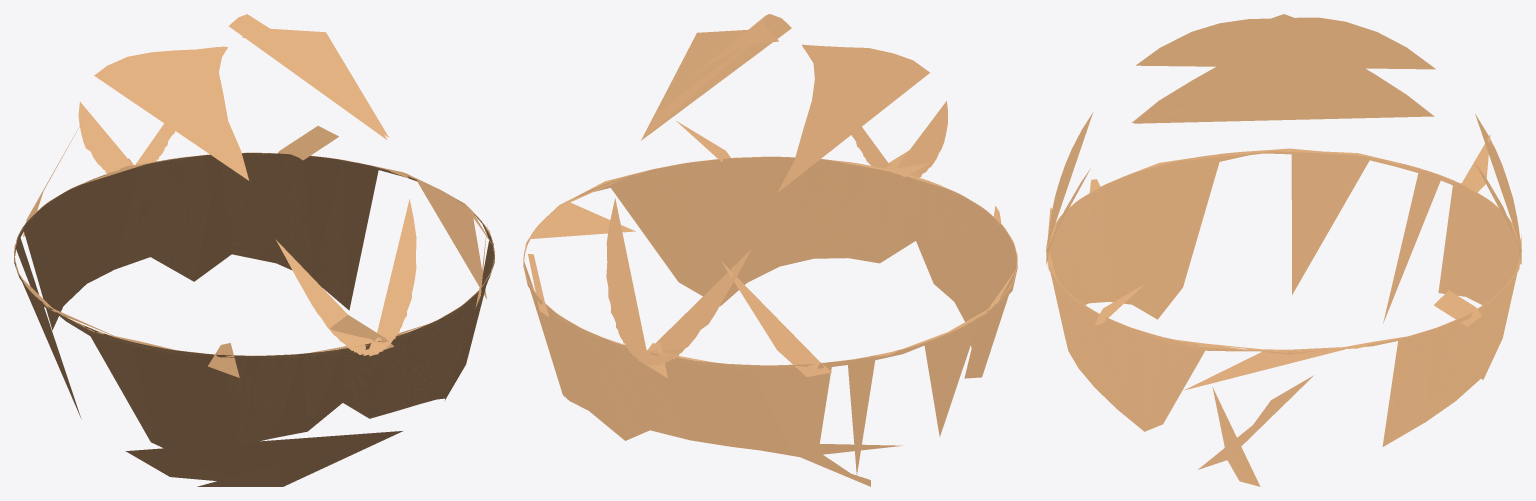
The model's file is conductors.glb.
3 views of the same model, side by side, from view 1: azimuth 30°, elevation 25°; view 2: azimuth 150°, elevation 25°; view 3: azimuth 270°, elevation 25° (orthographic). The views are drawn at different scales.
Parts seen in each view (by area): view 1: conductors; view 2: conductors; view 3: conductors.
Part boxes in pixels (x1,y1,x2,y2): conductors: (14, 14, 494, 486); conductors: (523, 14, 1017, 486); conductors: (1046, 14, 1521, 486).
Size of the model in its own units: 2 by 1.97 by 2.
